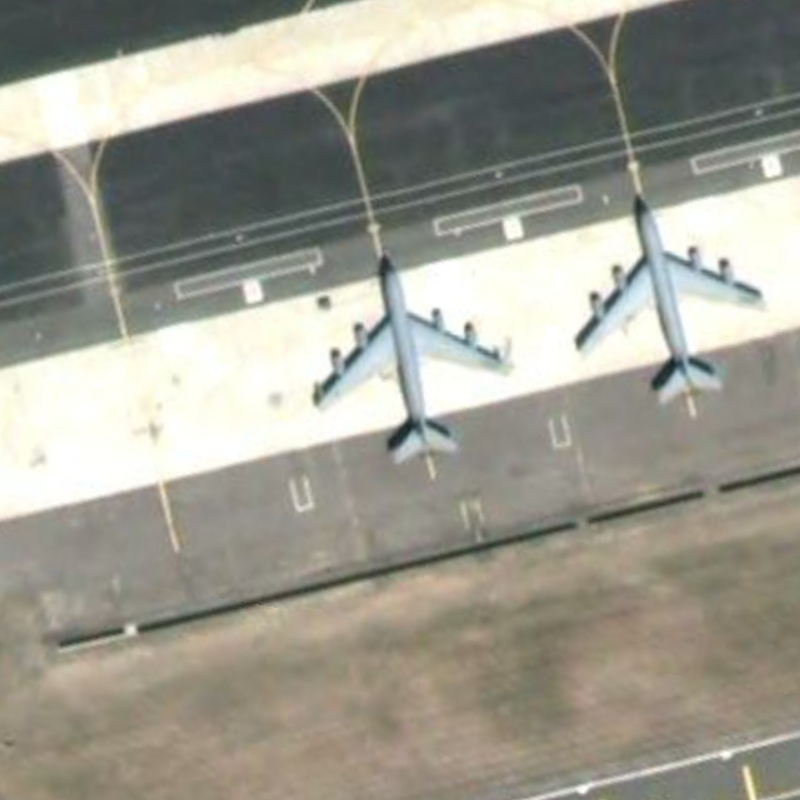A14: (304, 231, 521, 474), (565, 180, 782, 413)
